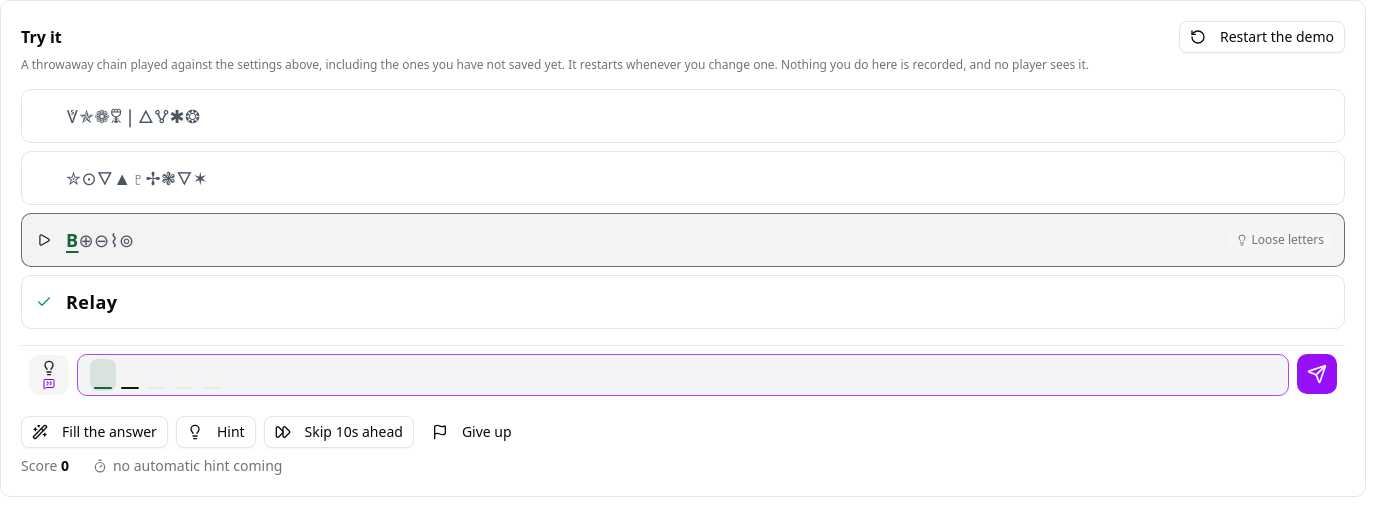
Test: DemoGame › credits the stuck ladder with dwell when the clock is pushed forward
Check: the text "dwell credited on this word" is not shown
Step 1. Click the button "Skip 10s ahead" → {"x": 339, "y": 432}, box [264,416,414,448]
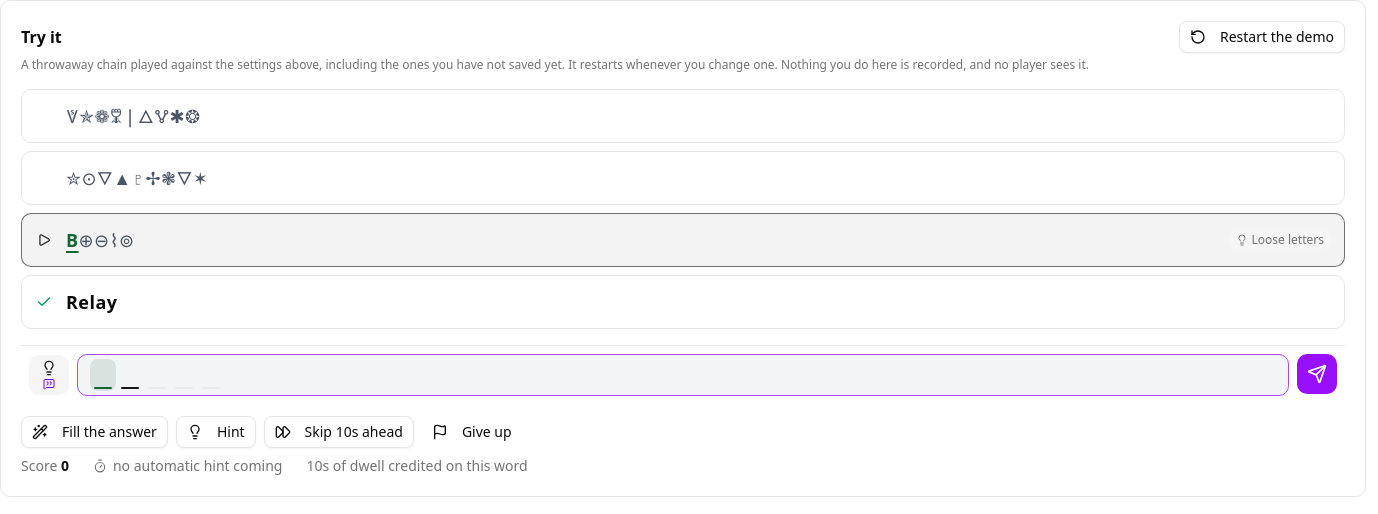
Check: the text "10s of dwell credited on this word" is shown, box [306,456,528,476]
Step 2. Click the button "Skip 10s ahead" → {"x": 339, "y": 432}, box [264,416,414,448]
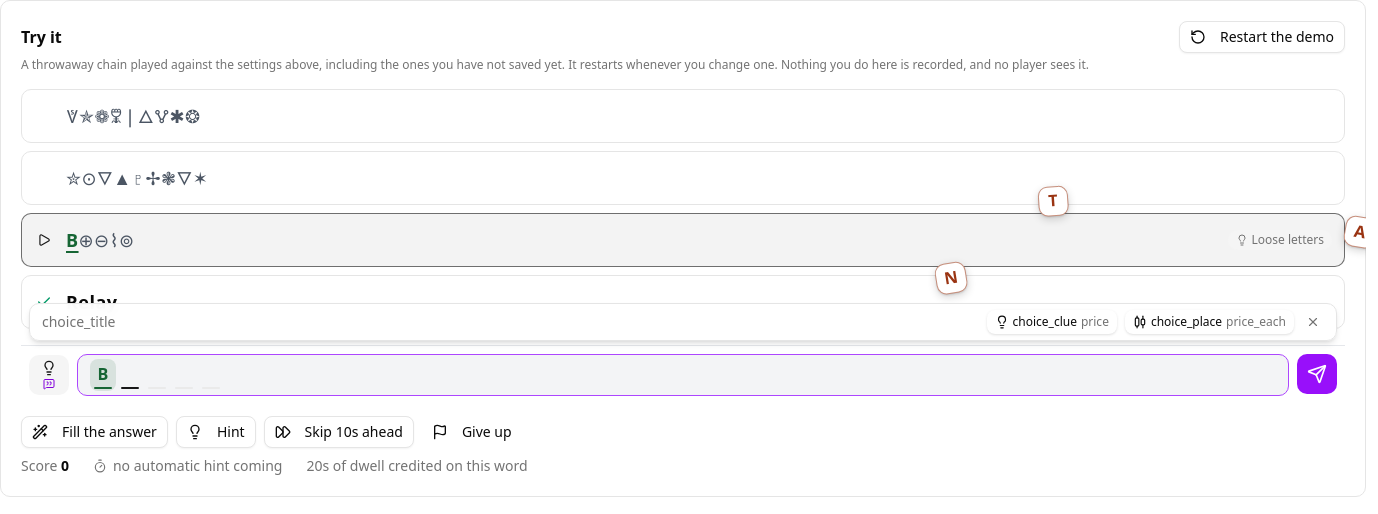
Check: the text "20s of dwell credited on this word" is shown, box [306,456,528,476]
